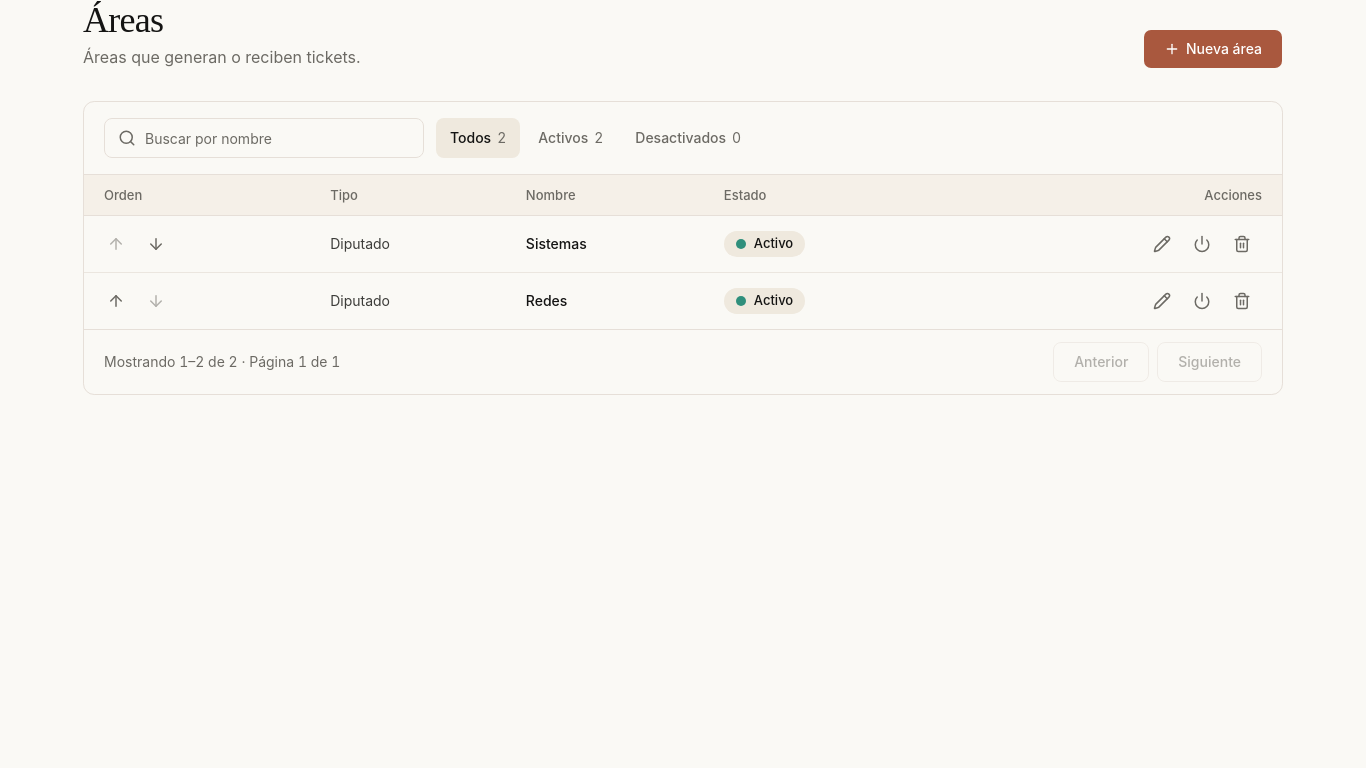
CatalogsAdmin › en Áreas el alta sin tipo muestra el error y no se envía
This screenshot has width=1366, height=768.
Check: the text "Sistemas" is shown, box [526,235,587,252]
Click the button "Nueva área": (1213,49) [1143,29,1283,69]
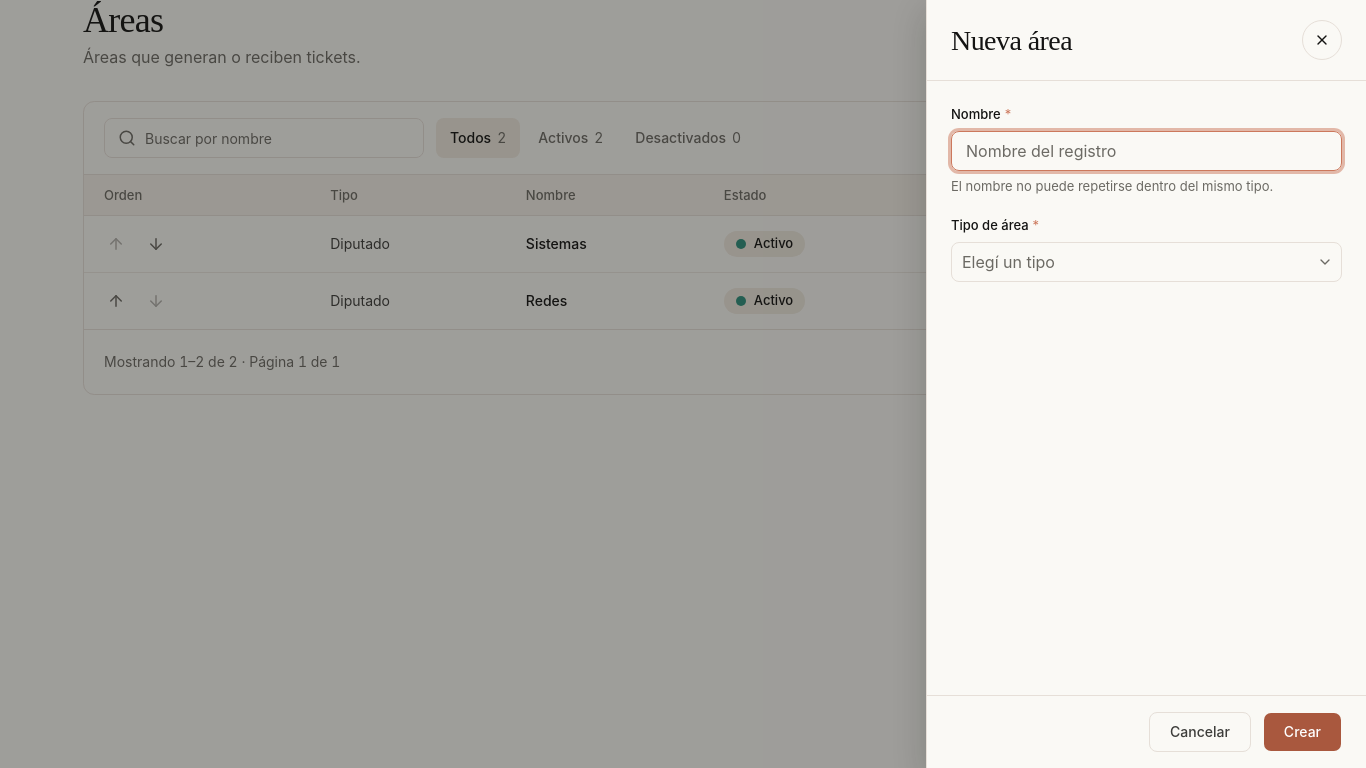
In the field labelled "Nombre": (1146,150) [951,130,1342,170], type "Soporte"
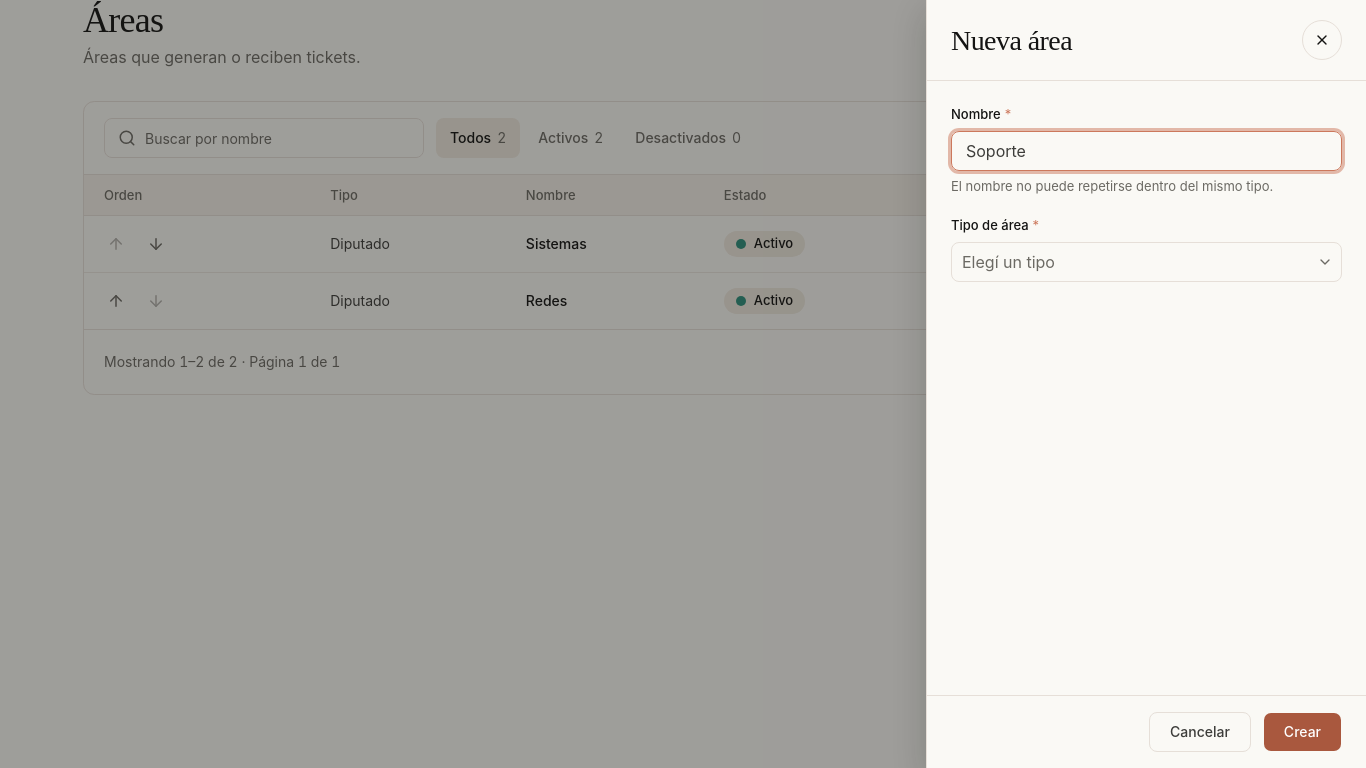
Click the button "Crear": (1302,732) [1263,712,1342,752]
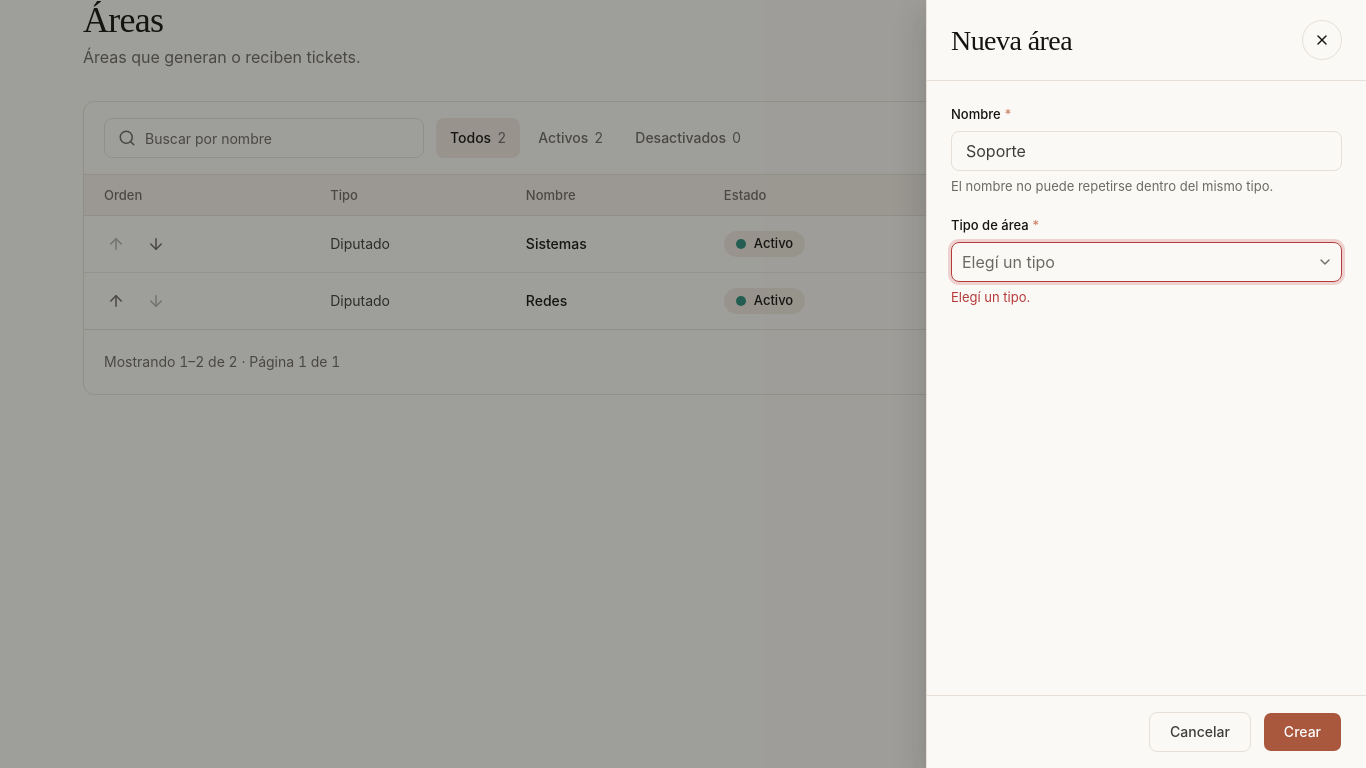
Check: the text "Elegí un tipo." is shown, box [951,288,1030,304]
